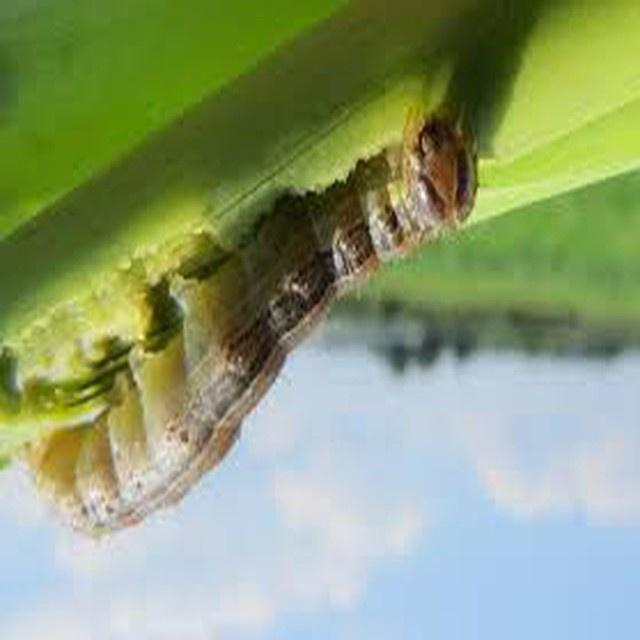gusano_cogollero: (35, 105, 480, 538)
